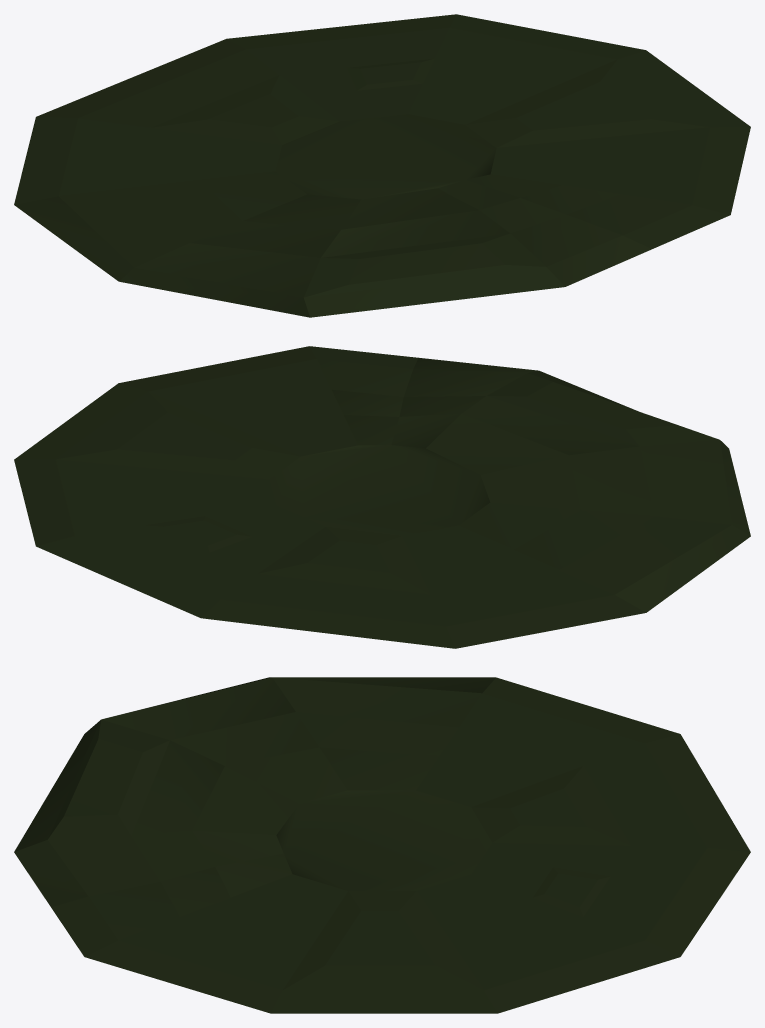
3 renders of one model, top to bottom at view 1: azimuth 30°, elevation 25°; view 2: azimuth 150°, elevation 25°; view 3: azimuth 270°, elevation 25°, orthographic. The views are drawn at different scales.
Parts seen in each view (by area): view 1: planet.001; view 2: planet.001; view 3: planet.001.
Boxes of the visible parts, x1,y1,x2,y2 form: planet.001: [14, 14, 750, 317]; planet.001: [14, 346, 750, 648]; planet.001: [14, 677, 750, 1013].
Size of the model in its own units: 5.43 by 0.1684 by 5.03.
